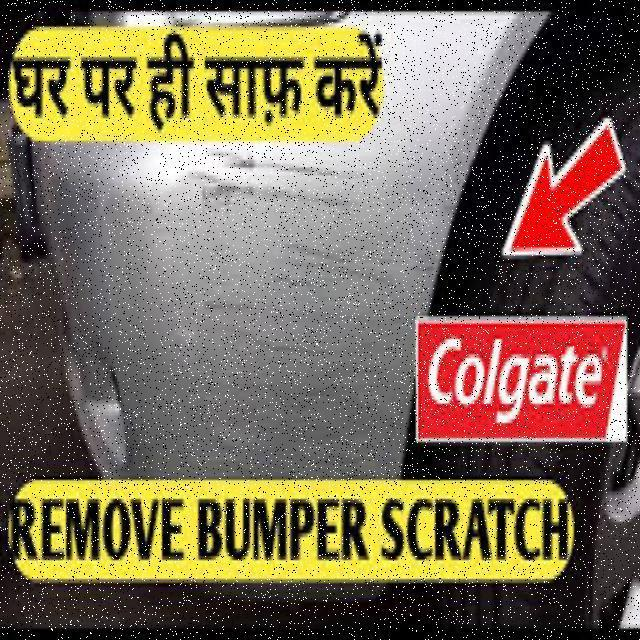front-bumper-dent: (17, 8, 557, 530)
